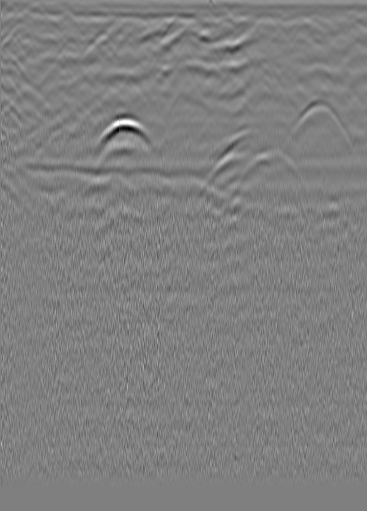가스: (18, 155, 366, 190)
